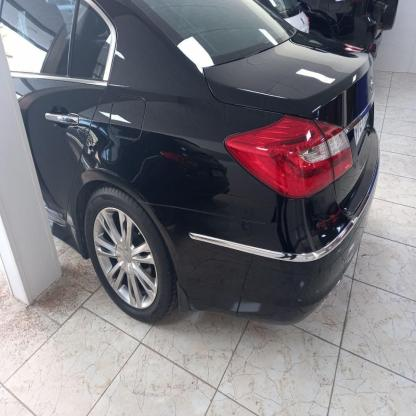Car: (0, 0, 384, 324)
